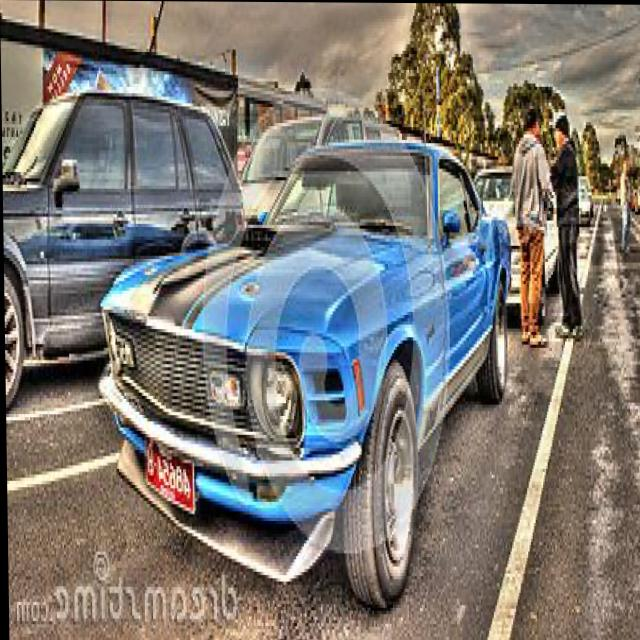licence: (143, 437, 203, 517)
